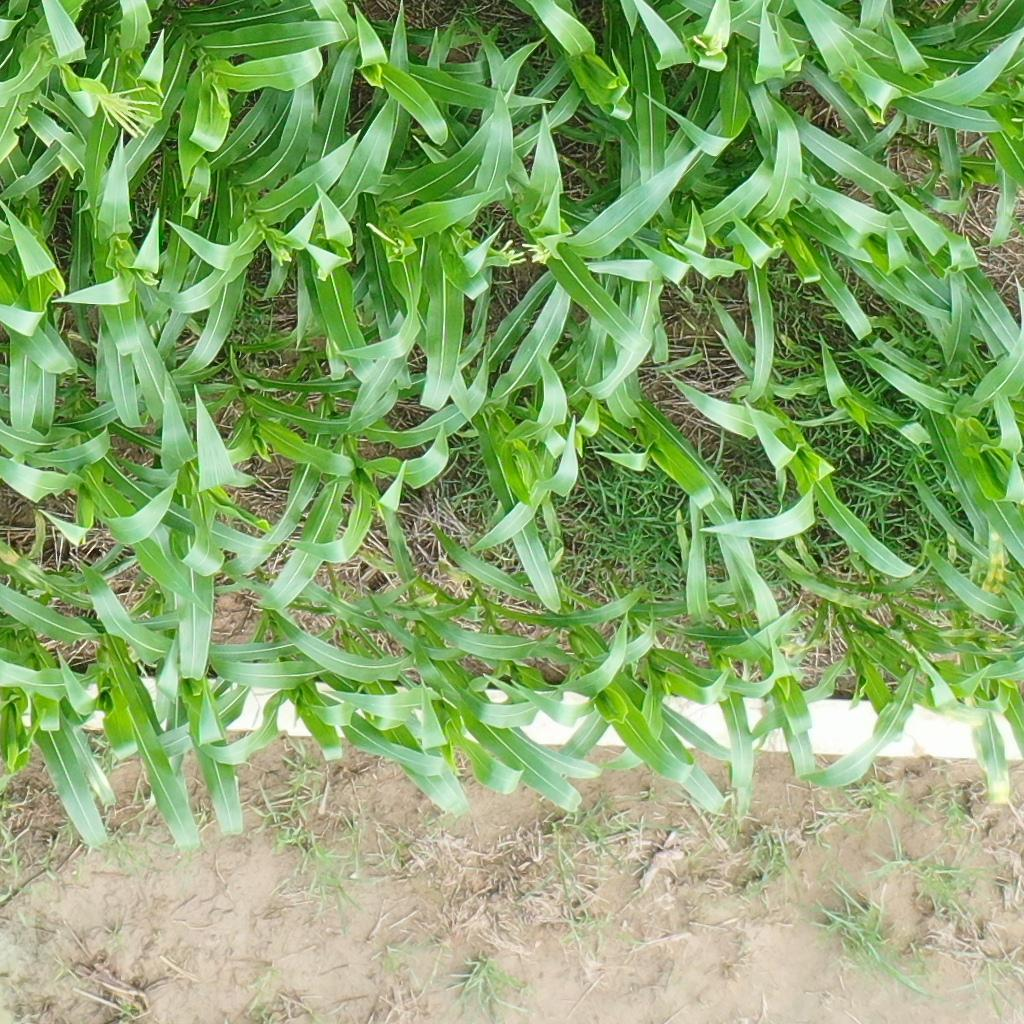Tassel: (89, 55, 154, 139), (365, 214, 408, 262), (491, 238, 555, 269), (694, 25, 726, 59), (131, 261, 162, 289), (269, 238, 294, 267)
